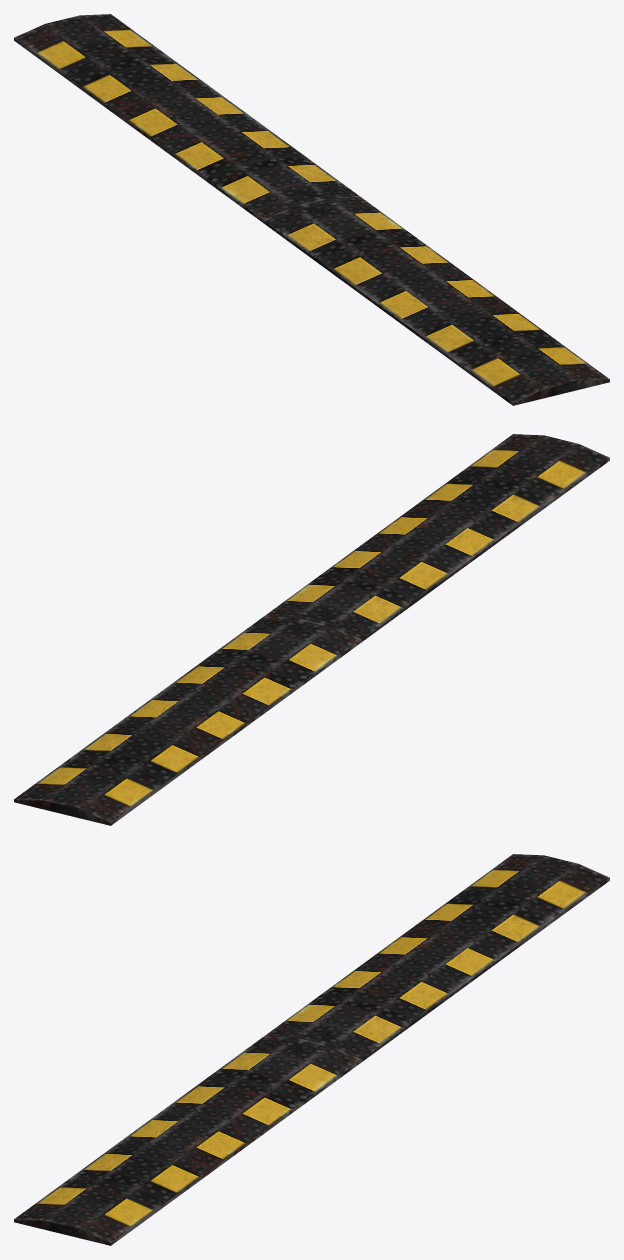
Rendered from HH_Speed_Bump_4m.fbx.
The picture shows the model from 3 angles, top to bottom: view 1: azimuth 30°, elevation 25°; view 2: azimuth 150°, elevation 25°; view 3: azimuth 330°, elevation 25°; orthographic projection.
Visible parts, largest first — view 1: HH_Speed_Bump_4m; view 2: HH_Speed_Bump_4m; view 3: HH_Speed_Bump_4m.
Boxes of the visible parts, x1,y1,x2,y2 form: HH_Speed_Bump_4m: [14, 14, 609, 405]; HH_Speed_Bump_4m: [14, 434, 609, 825]; HH_Speed_Bump_4m: [14, 854, 609, 1245].
Bounding box in the file's own units: 44.86 × 4.06 × 400.
